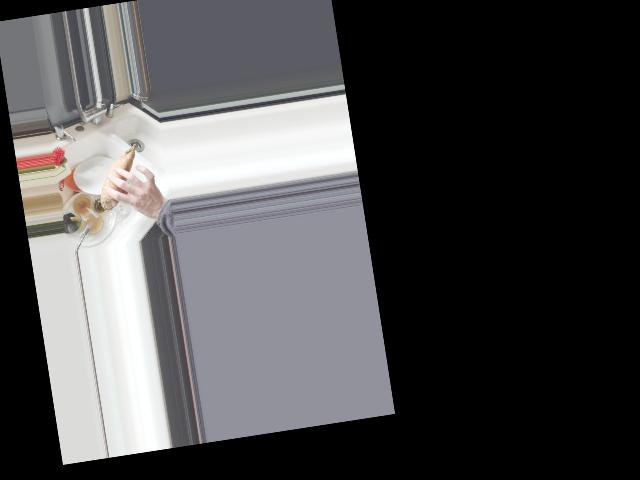sweet_potato: (92, 143, 145, 210)
